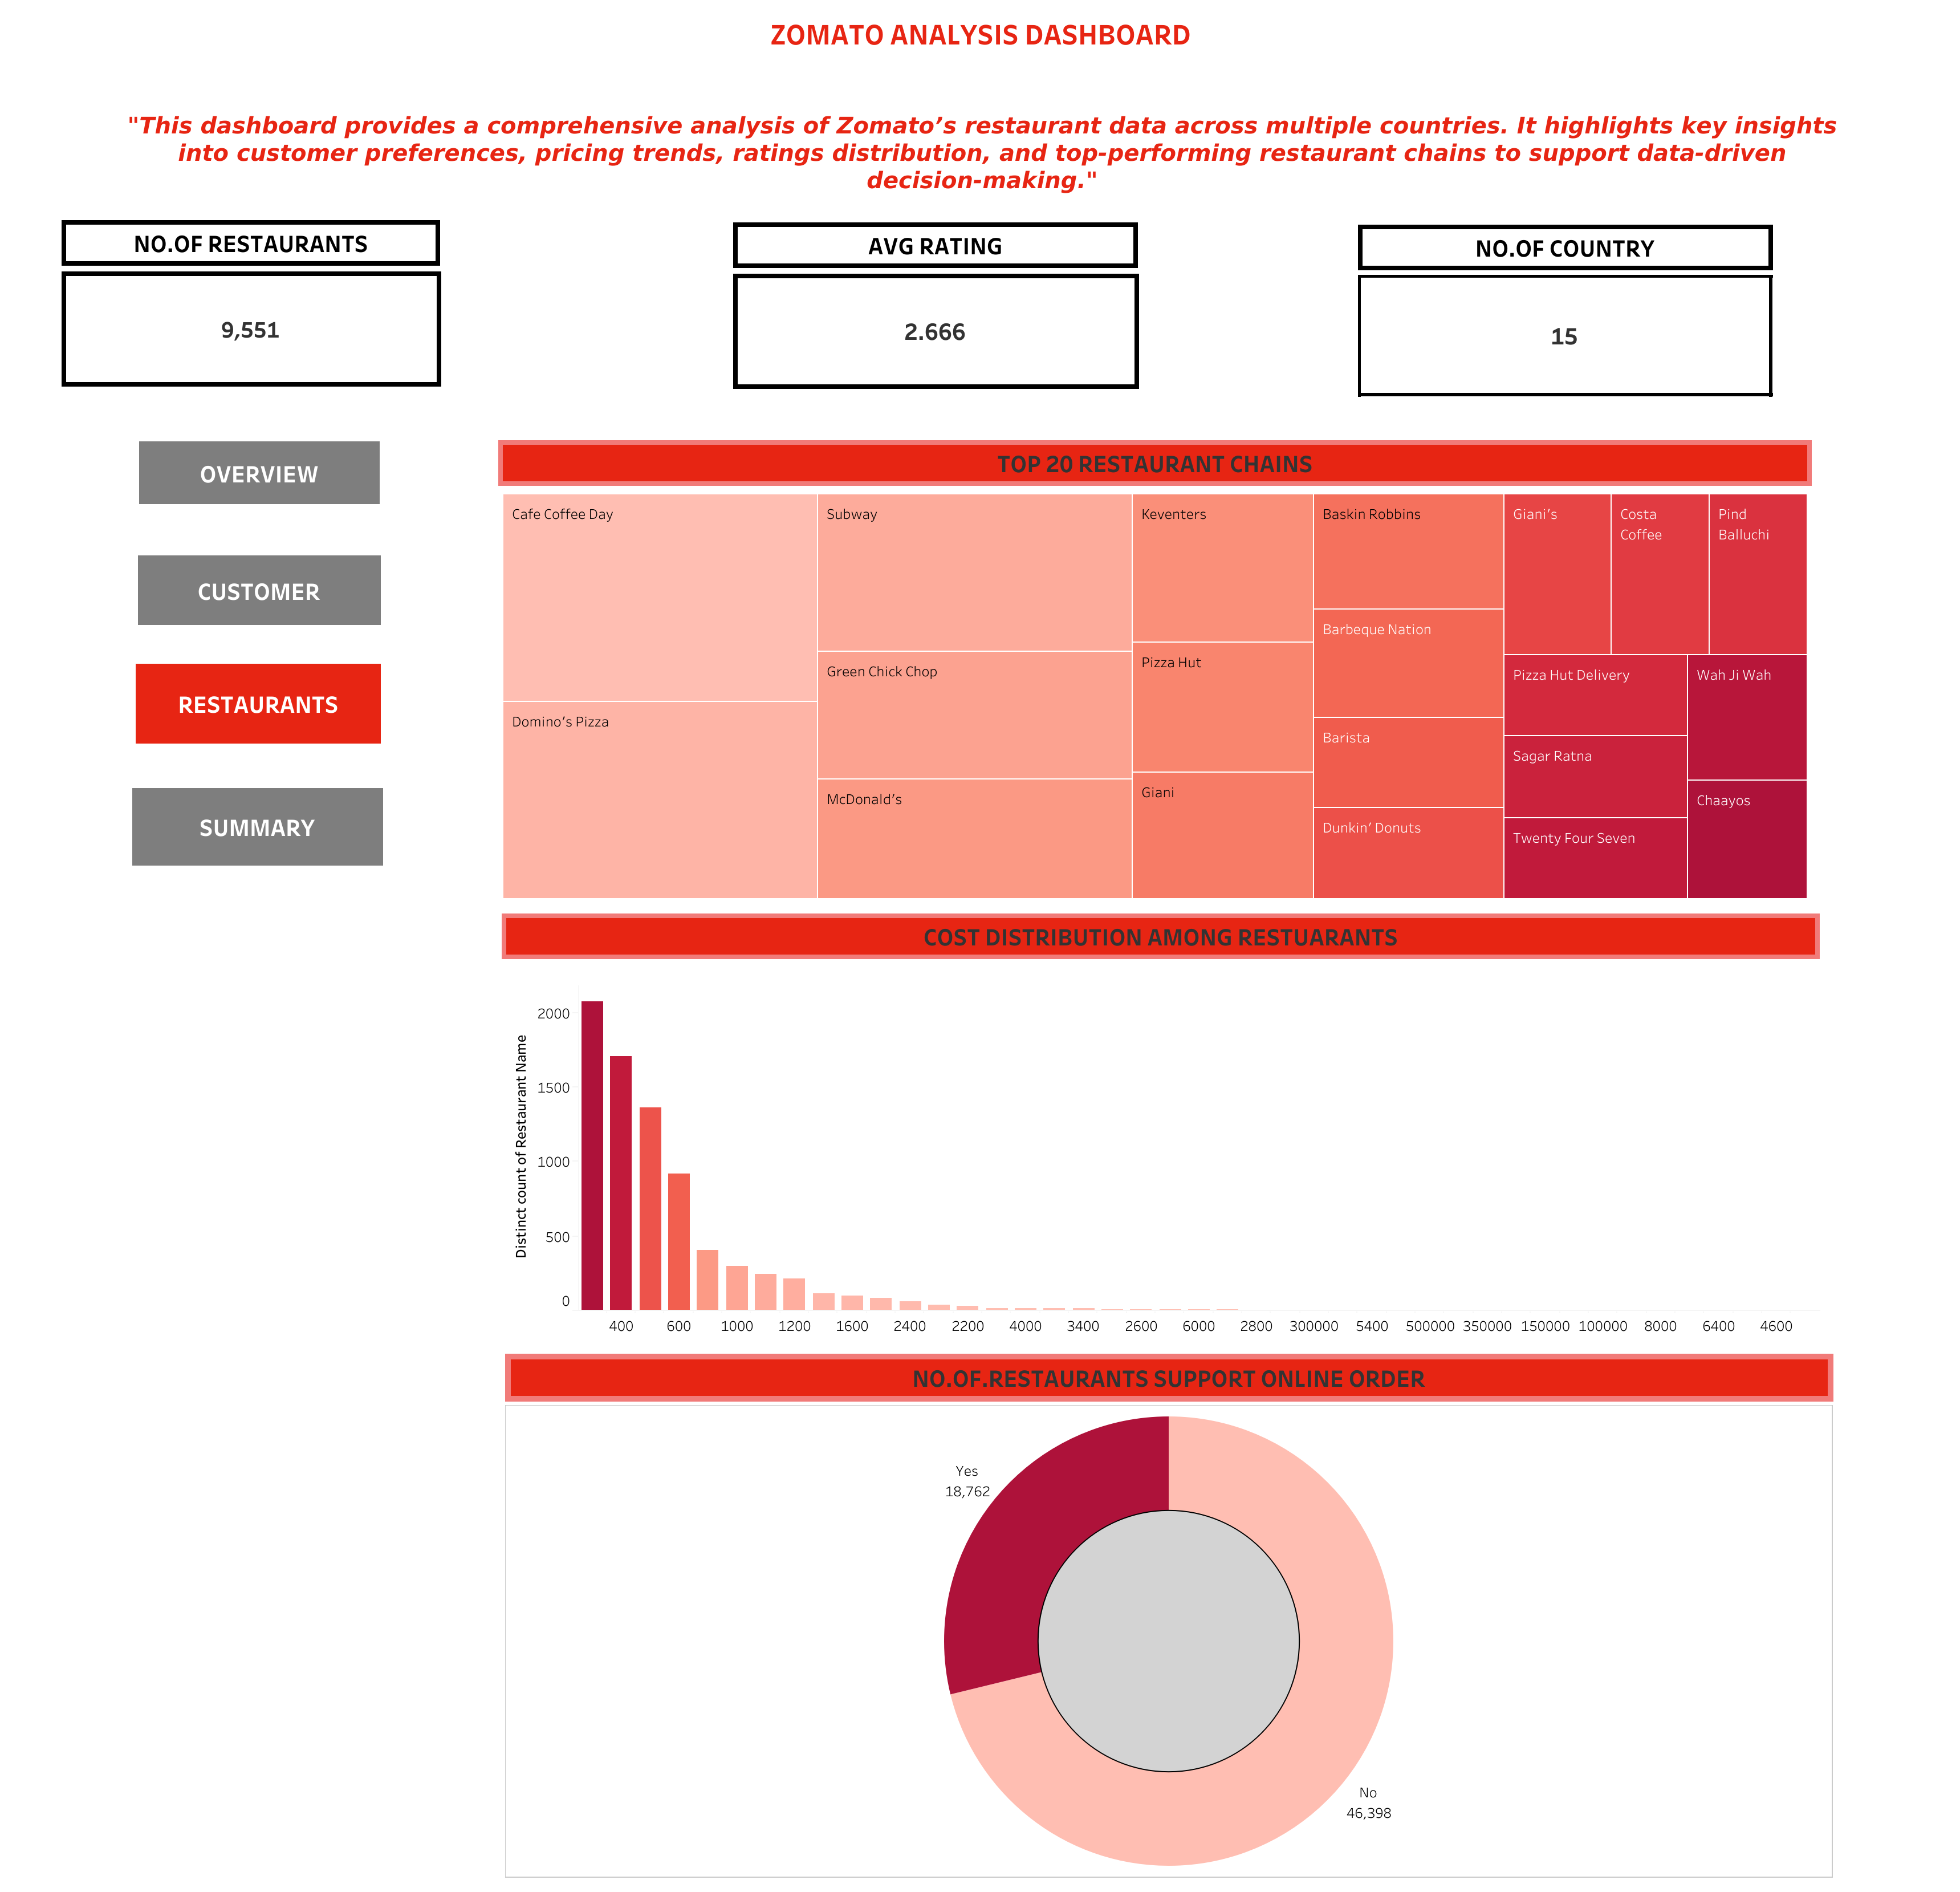

Layout of this report page (visuals, bound fields, positions):
{"tool":"tableau","page":{"name":"RESTAURANTS","canvas":[1720,1660],"ordinal":2},"visuals":[{"type":"title","box":[8,8,1704,49]},{"type":"text","box":[84,82,1555,104]},{"type":"worksheet","title":"NO.OF RESTAURANTS","mark":"Automatic","box":[52,193,410,167]},{"type":"worksheet","title":"AVG RATING","mark":"Automatic","box":[641,195,372,168]},{"type":"dashboard-object","box":[118,383,219,63]},{"type":"worksheet","title":"TOP 20 RESTAURANT CHAINS","mark":"Automatic","box":[437,386,1155,406]},{"type":"dashboard-object","box":[116,482,223,71]},{"type":"dashboard-object","box":[114,577,225,80]},{"type":"dashboard-object","box":[111,686,230,78]},{"type":"worksheet","title":"COST DISTRIBUTION AMONG RESTUARANTS","mark":"Bar","rows":["Restaurant Name"],"cols":["Average Cost for two (bin)"],"box":[440,801,1156,370]},{"type":"worksheet","title":"NO.OF.RESTAURANTS SUPPORT ONLINE ORDER","mark":"Pie","rows":["Calculation_933371067202301960","Calculation_933371067202351114"],"box":[443,1187,1165,460]}]}

Visuals, with their boxes in screenshot pixels (x1, y1, x2, y2), scaled from the page's 1720x1660 canvas onto the 1960x1892 screenshot:
title: 9/9/1951/65
text: 96/94/1868/212
"NO.OF RESTAURANTS" worksheet: 59/220/526/411
"AVG RATING" worksheet: 730/222/1154/414
dashboard-object: 135/437/384/508
"TOP 20 RESTAURANT CHAINS" worksheet: 498/440/1814/903
dashboard-object: 132/549/387/630
dashboard-object: 130/657/387/749
dashboard-object: 127/782/389/871
"COST DISTRIBUTION AMONG RESTUARANTS" worksheet (Bar marks): 501/913/1819/1335
"NO.OF.RESTAURANTS SUPPORT ONLINE ORDER" worksheet (Pie marks): 505/1353/1832/1877
